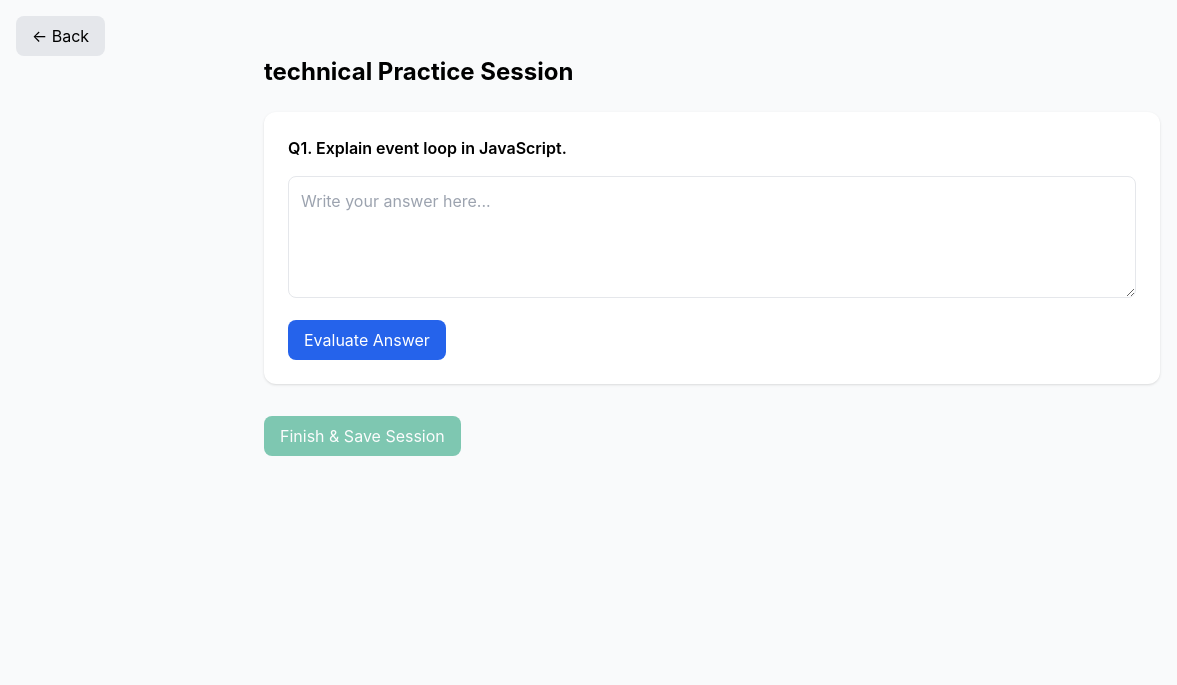
Test case: PracticeSession flow › loads question, evaluates answer, and saves practice session
The image size is (1177, 685).
Expected: the heading "Q1. Explain event loop in JavaScript." is shown, [288, 138, 567, 158]
Type "The event loop processes macrotasks and microtasks; promises run in microtasks." into the text box with placeholder "Write your answer here..." at point(712, 237), box [288, 176, 1136, 298]
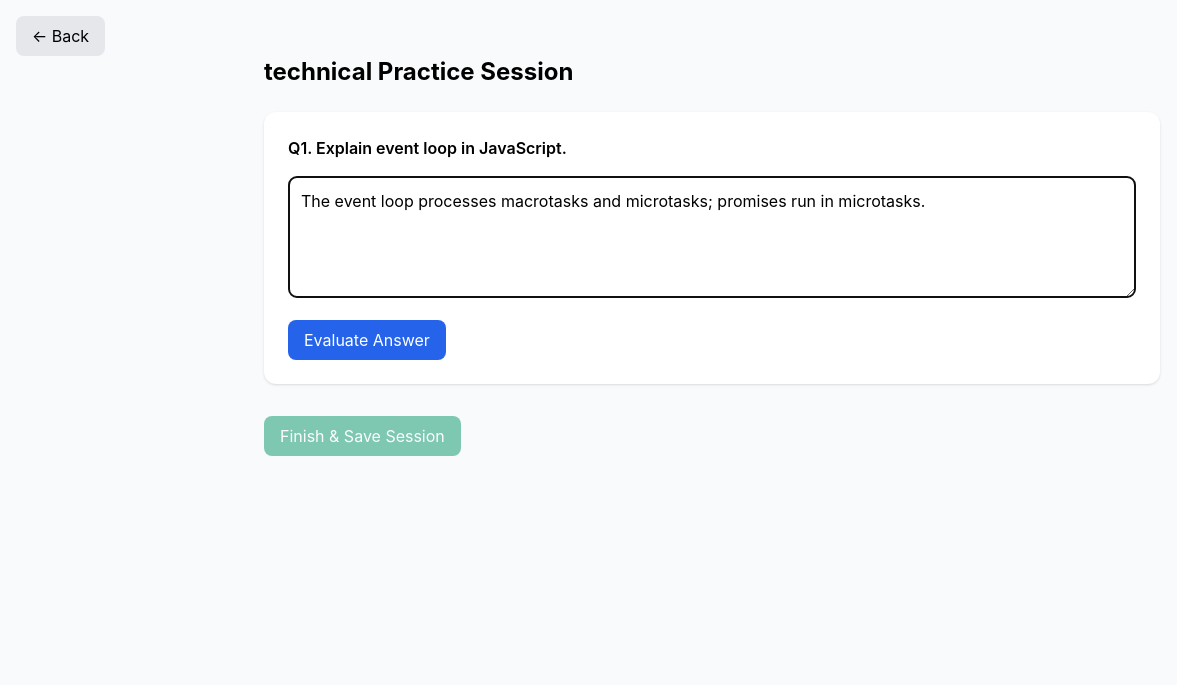
Click the button "Evaluate Answer" at point(367, 340), box [288, 320, 446, 360]
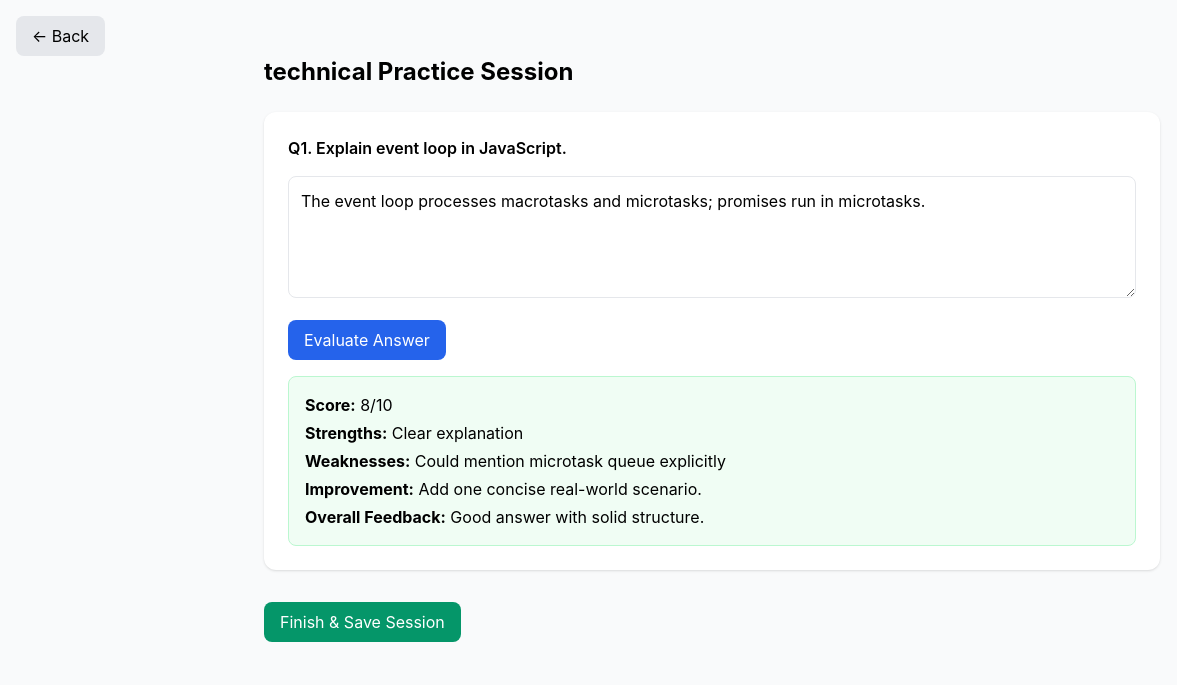
Expected: the text "Overall Feedback:" is shown, [305, 507, 446, 527]
Expected: the text "Overall Feedback: Good answer with solid structure." is shown, [305, 507, 704, 527]
Click the button "Finish & Save Session" at point(362, 622), box [264, 602, 461, 642]
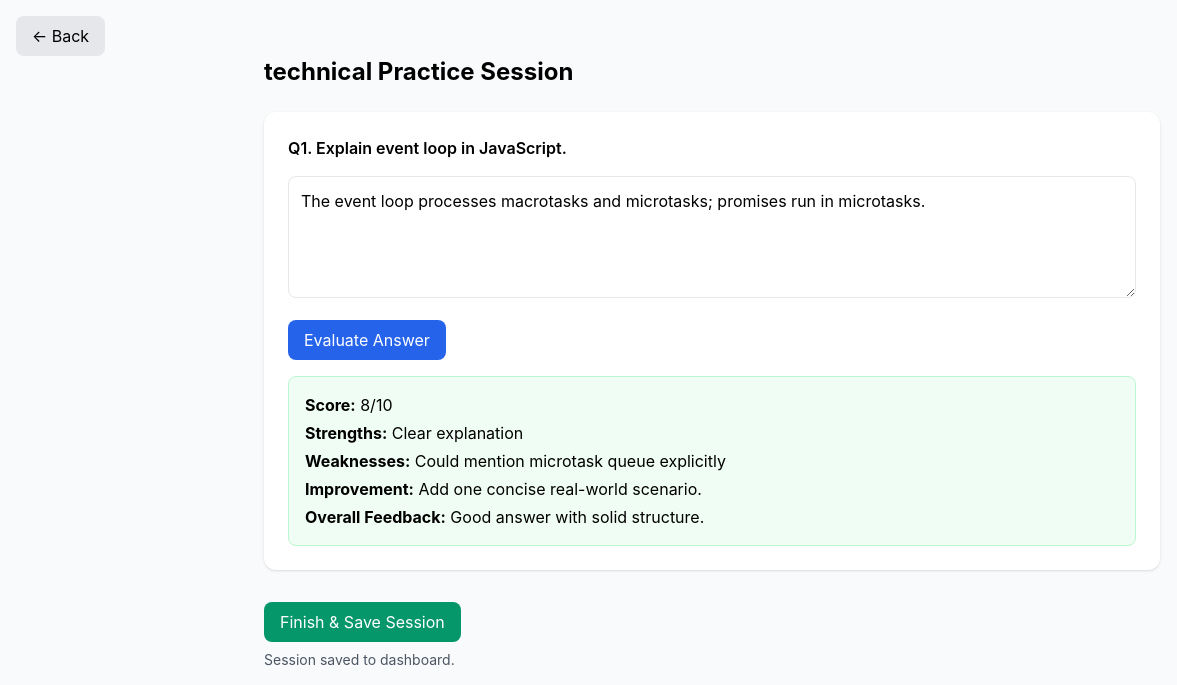
Expected: the text "Session saved to dashboard." is shown, [264, 651, 455, 668]
